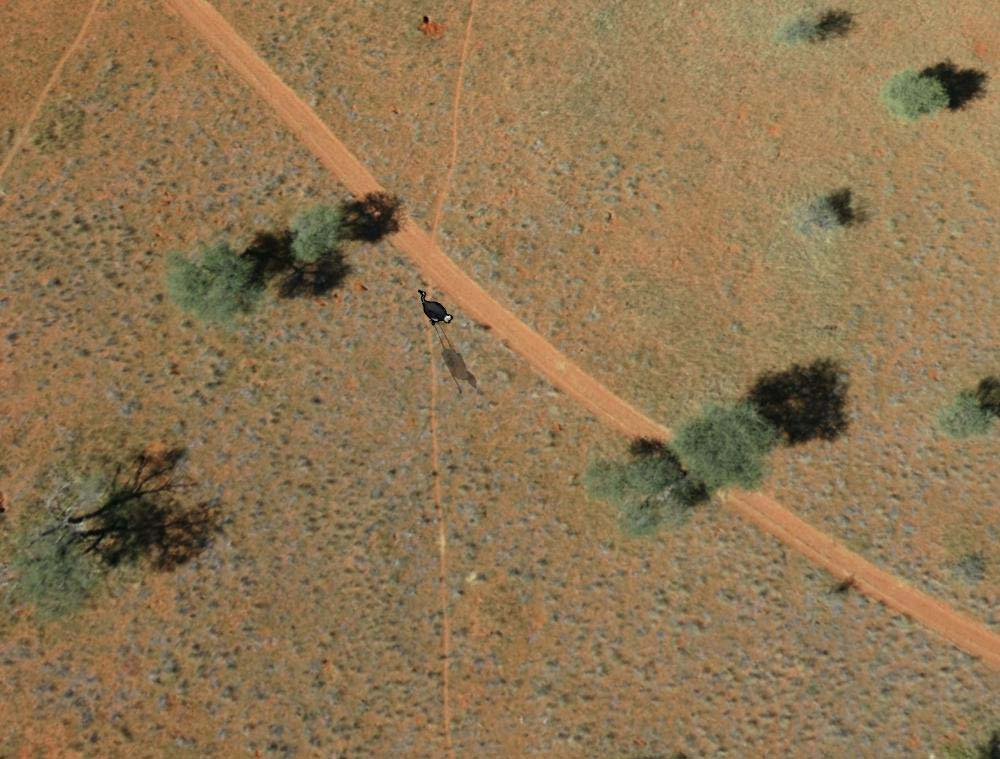ostrich: (416, 286, 455, 326)
